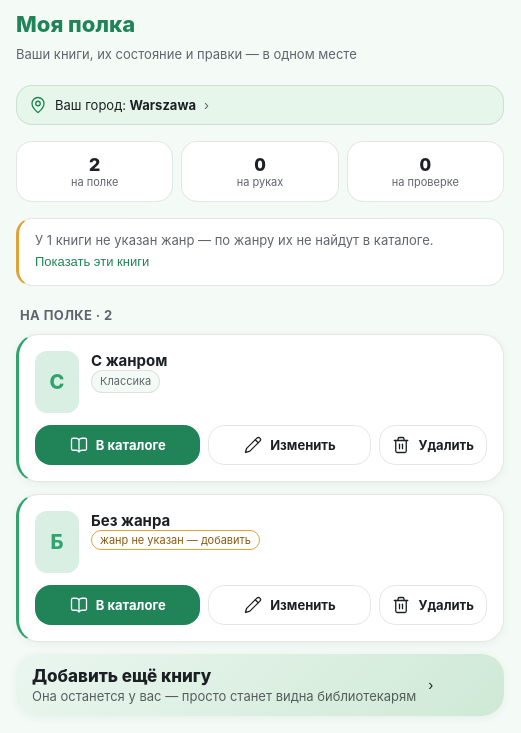
Test: город и жанры на «Моей полке» (просьба user 29.07.2026) › книги без жанра пересчитаны сверху и показываются фильтром
Expected: the text "Без жанра" is shown, [91, 510, 170, 530]
Expected: the text "У 1 книги не указан жанр" is shown, [16, 218, 504, 286]
Click the button "Показать эти книги". click: {"x": 92, "y": 262}
box: [35, 250, 487, 273]
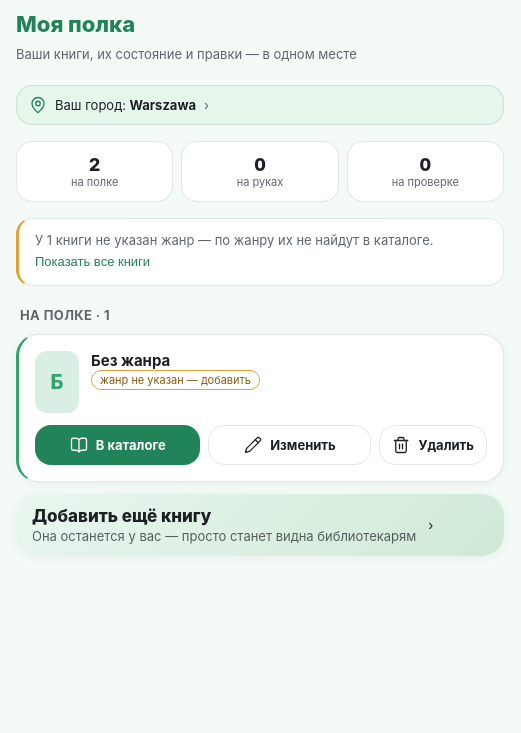
Expected: the text "Без жанра" is shown, [91, 350, 170, 370]
Now the text "С жанром" is gone
